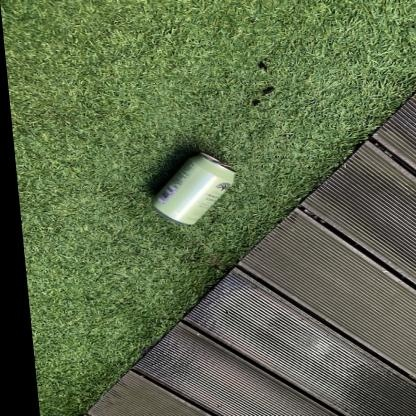trash: (153, 153, 234, 224)
